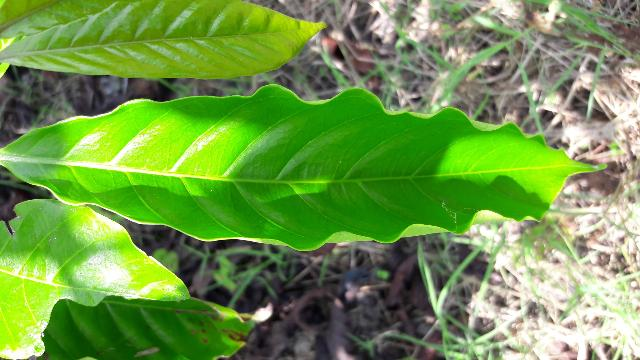healthy: (2, 85, 606, 248)
